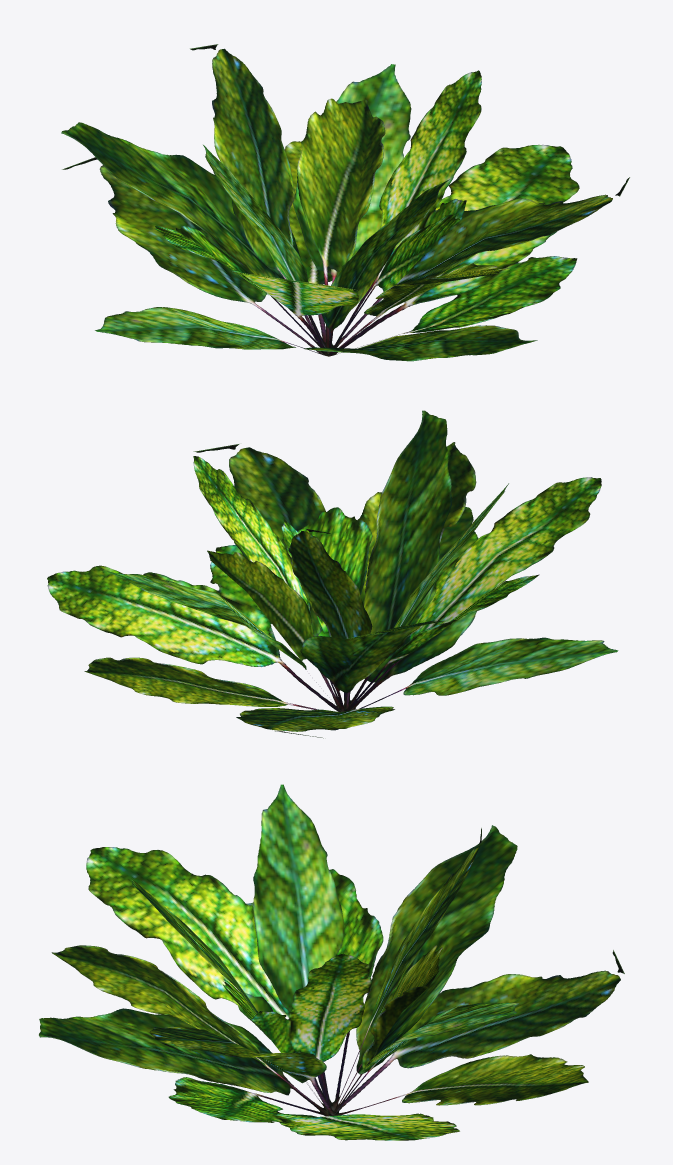
Rendered from m_grass10.fbx.
3 renders of one model, top to bottom at view 1: azimuth 30°, elevation 25°; view 2: azimuth 150°, elevation 25°; view 3: azimuth 270°, elevation 25°, orthographic. The views are drawn at different scales.
Parts seen in each view (by area): view 1: m_grass10; view 2: m_grass10; view 3: m_grass10.
Boxes of the visible parts, x1,y1,x2,y2 form: m_grass10: (61,44,629,361); m_grass10: (47,410,618,738); m_grass10: (39,784,624,1140).
Bounding box in the file's own units: 2.5 × 1.13 × 2.46.
